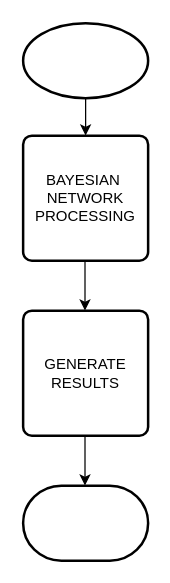
The diagram is 170 pixels wide and 583 high, and some of its shapes have lost their labels. Here are the shapes that lost their labels. From the top down, the centre of each, then its label:
At point (85, 60): "DATA COLLECTION".
At point (85, 522): "PRESENT RESULTS".
